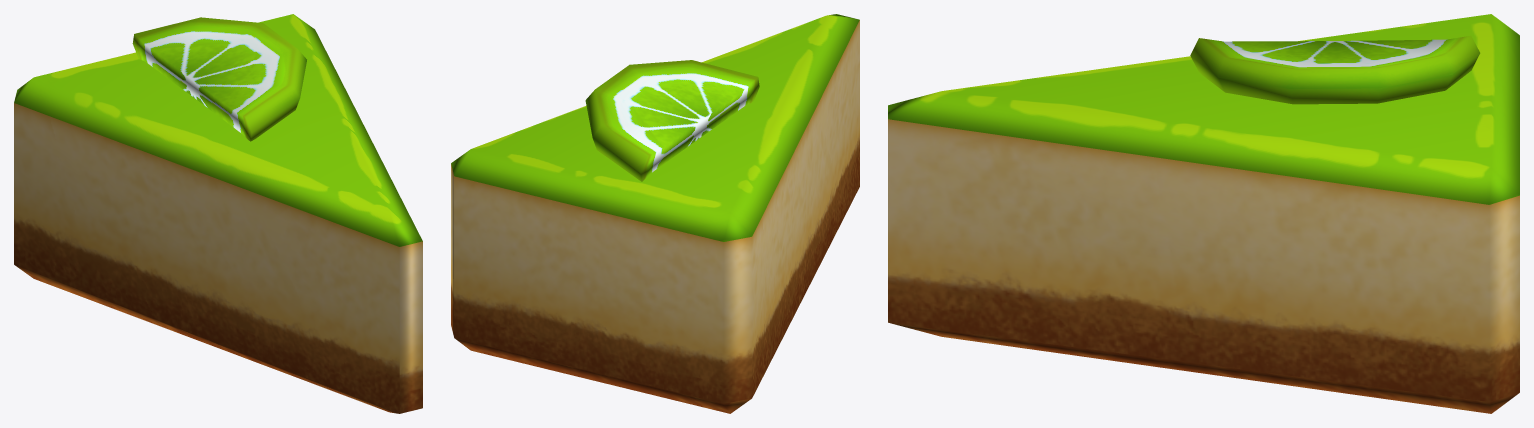
The model's file is KeyLime_Cheesecake_Slice.fbx.
3 renders of one model, left to right at view 1: azimuth 30°, elevation 25°; view 2: azimuth 150°, elevation 25°; view 3: azimuth 270°, elevation 25°, orthographic. The views are drawn at different scales.
Visible parts, largest first — view 1: KeyLime_Cheesecake_Slice; view 2: KeyLime_Cheesecake_Slice; view 3: KeyLime_Cheesecake_Slice.
Part boxes in pixels (<box>): KeyLime_Cheesecake_Slice: <box>14,14,422,413</box>; KeyLime_Cheesecake_Slice: <box>451,14,859,413</box>; KeyLime_Cheesecake_Slice: <box>888,14,1519,413</box>.
Bounding box in the file's own units: 26.02 × 20.28 × 38.81.
